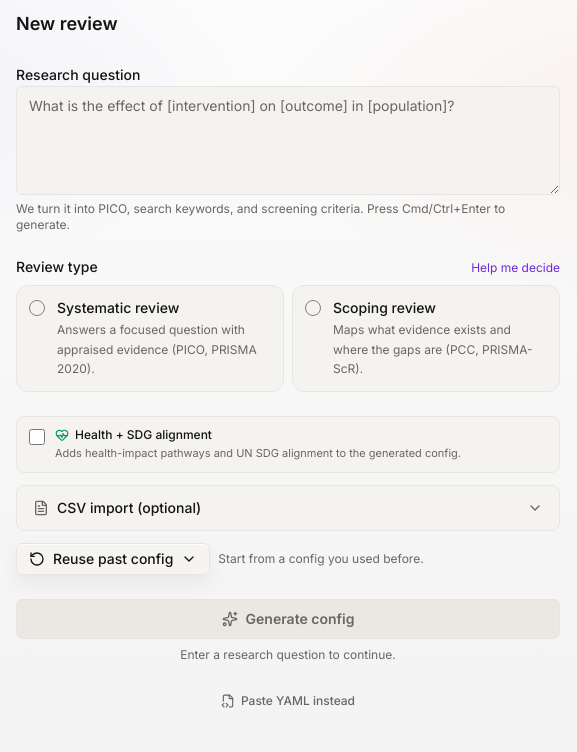
Test: SetupView › opens the decision guide from Help me decide and applies its result
Click the button "Help me decide" at (516, 268), box [471,260,560,276]
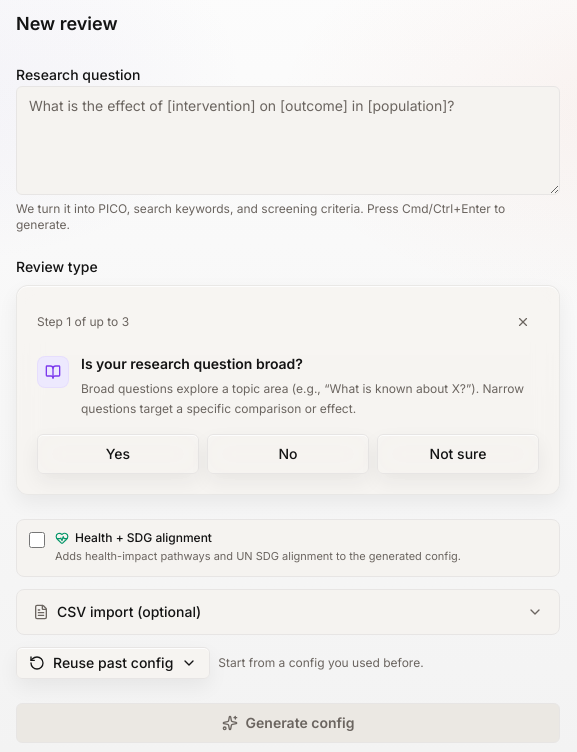
Expected: the text "Step 1 of up to 3" is shown, [37,314,129,330]
Click the button "Yes" at (118, 454), box [37,434,199,474]
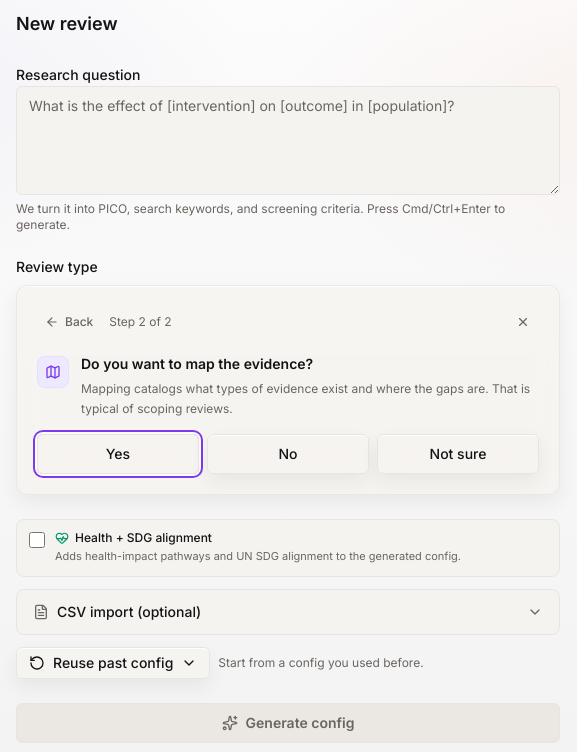
Click the button "Yes" at (118, 454), box [37,434,199,474]
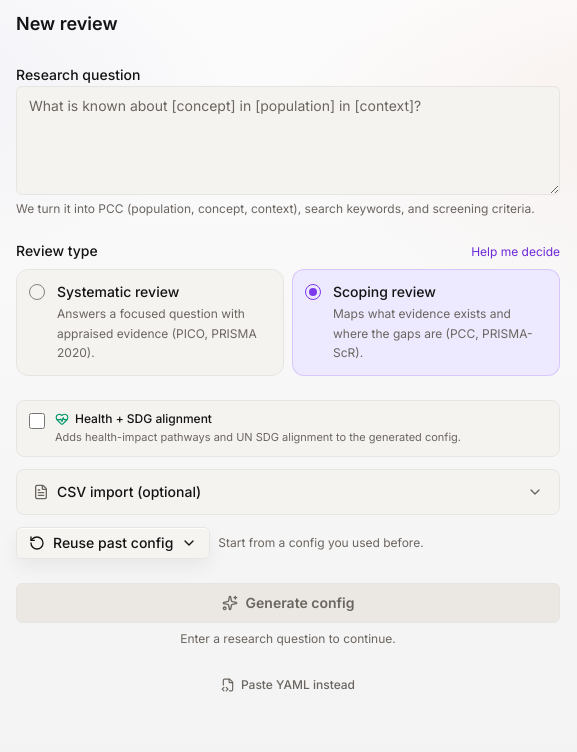
Expected: the radio button named "Scoping review" next to "Scoping review" is checked, [305,284,321,300]
